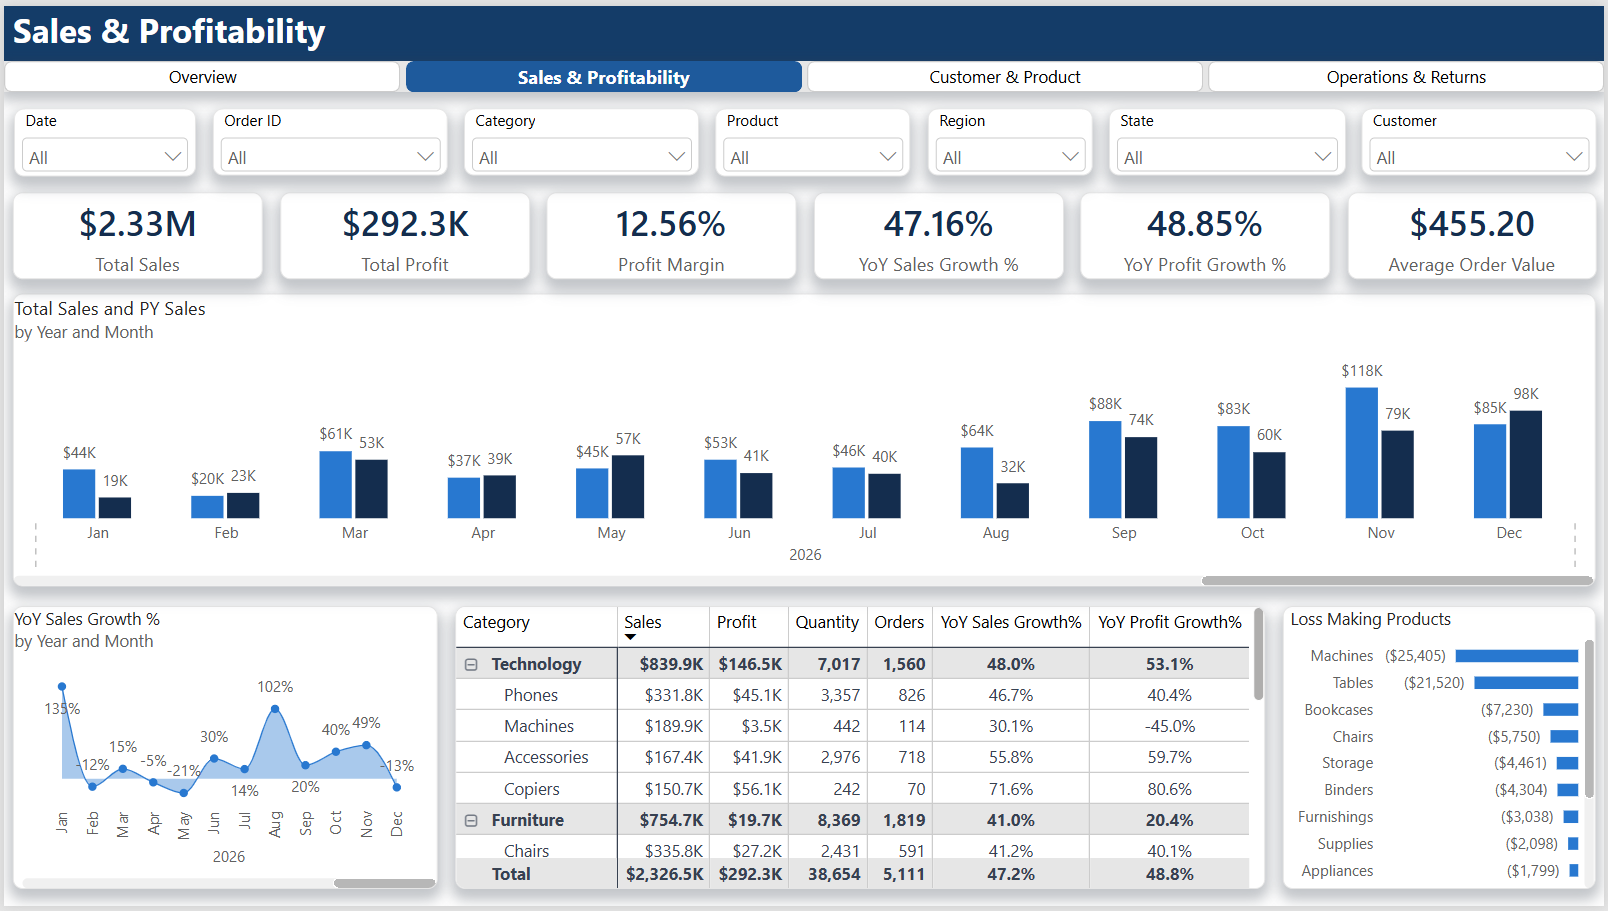

What the dashboard file says about the page in this screenshot:
{"tool":"powerbi","page":{"name":"Sales & Profitability","canvas":[1280,720],"ordinal":1},"visuals":[{"type":"areaChart","fields":{"Category":["DimDate.Year","DimDate.Month"],"Y":["_Measures.YoY Sales Growth %"]},"box":[7,480,340,227],"z":0},{"type":"pivotTable","fields":{"Rows":["Orders.Category","Orders.Sub-Category"],"Values":["_Measures.Total Sales","_Measures.Total Profit","_Measures.Total Quantity","_Measures.Total Orders","_Measures.YoY Sales Growth %","_Measures.YoY Profit Growth %"]},"box":[361,480,648,227],"z":1000},{"type":"clusteredBarChart","title":"Loss Making Products","fields":{"Category":["Orders.Sub-Category","Orders.Product Name"],"Y":["_Measures.Total Profit"]},"box":[1023,480,250,227],"z":2000},{"type":"lineClusteredColumnComboChart","fields":{"Category":["DimDate.Year","DimDate.Month"],"Y":["_Measures.Total Sales","_Measures.PY Sales"]},"box":[6.8,229.7,1265.9,235.5],"z":3000},{"type":"shape","box":[0,0,1280.5,44.6],"z":4000},{"type":"textbox","box":[6,0,1255,45],"z":5000},{"type":"card","fields":{"Values":["_Measures.Total Sales"]},"box":[6.8,149.3,200.6,70],"z":6000},{"type":"card","fields":{"Values":["_Measures.Total Profit"]},"box":[220.9,149.5,200,70],"z":7000},{"type":"card","fields":{"Values":["_Measures.Profit Margin"]},"box":[434.4,149.5,200,70],"z":8000},{"type":"card","fields":{"Values":["_Measures.YoY Sales Growth %"]},"box":[648,149.5,200,70],"z":9000},{"type":"card","fields":{"Values":["_Measures.YoY Profit Growth %"]},"box":[861.5,149.5,200,70],"z":10000},{"type":"card","fields":{"Values":["_Measures.Average Order Value"]},"box":[1075,149.3,198.7,70],"z":11000},{"type":"pageNavigator","box":[0,44,1280,25],"z":19000},{"type":"slicer","fields":{"Values":["DimDate.Year","DimDate.Month","DimDate.Day"]},"box":[7.6,82.2,145.8,54.4],"z":19001},{"type":"slicer","fields":{"Values":["Orders.Order ID"]},"box":[166.8,82.1,187.7,54.1],"z":19002},{"type":"slicer","fields":{"Values":["Orders.Category"]},"box":[368,82.1,187.7,54.1],"z":19003},{"type":"slicer","fields":{"Values":["Orders.Region"]},"box":[738.6,82,132.4,54.1],"z":19004},{"type":"slicer","fields":{"Values":["Orders.State/Province"]},"box":[884.5,82,188,54.3],"z":19005},{"type":"slicer","fields":{"Values":["Orders.Sub-Category"]},"box":[569.2,81.6,156,55],"z":19006},{"type":"slicer","fields":{"Values":["Orders.Customer Name"]},"box":[1086,82,187.7,54.1],"z":19007}]}

Visuals, with their boxes in screenshot pixels (x1, y1, x2, y2), scaled from the page's 1280x720 canvas onto the 1608x911 screenshot:
areaChart - DimDate.Year x DimDate.Month: detection(9, 607, 436, 895)
pivotTable - Orders.Category x Orders.Sub-Category: detection(454, 607, 1268, 895)
"Loss Making Products" clusteredBarChart: detection(1285, 607, 1599, 895)
lineClusteredColumnComboChart - DimDate.Year x DimDate.Month: detection(9, 291, 1599, 589)
shape: detection(0, 0, 1607, 56)
textbox: detection(8, 0, 1584, 57)
card - _Measures.Total Sales: detection(9, 189, 261, 277)
card - _Measures.Total Profit: detection(278, 189, 529, 278)
card - _Measures.Profit Margin: detection(546, 189, 797, 278)
card - _Measures.YoY Sales Growth %: detection(814, 189, 1065, 278)
card - _Measures.YoY Profit Growth %: detection(1082, 189, 1334, 278)
card - _Measures.Average Order Value: detection(1350, 189, 1600, 277)
pageNavigator: detection(0, 56, 1607, 87)
slicer - DimDate.Year x DimDate.Month: detection(10, 104, 193, 173)
slicer - Orders.Order ID: detection(210, 104, 445, 172)
slicer - Orders.Category: detection(462, 104, 698, 172)
slicer - Orders.Region: detection(928, 104, 1094, 172)
slicer - Orders.State/Province: detection(1111, 104, 1347, 172)
slicer - Orders.Sub-Category: detection(715, 103, 911, 173)
slicer - Orders.Customer Name: detection(1364, 104, 1600, 172)
